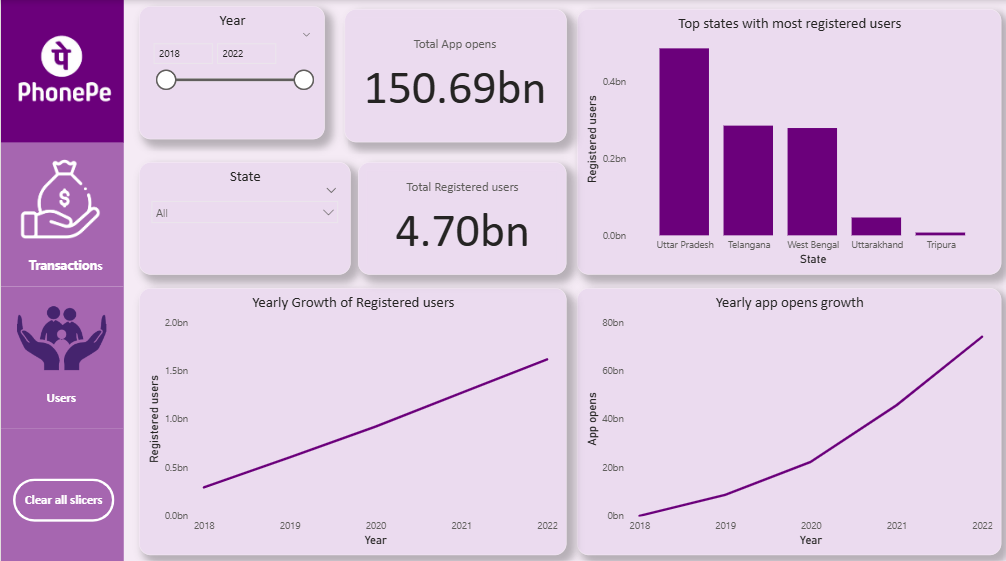

Layout of this report page (visuals, bound fields, positions):
{"tool":"powerbi","page":{"name":"Users","canvas":[1280,720],"ordinal":1},"visuals":[{"type":"shape","box":[0,0,155,180],"z":0,"group":"g1"},{"type":"slicer","title":"Year","fields":{"Values":["map_trans.Year"]},"box":[173.9,7.6,234.3,168.2],"z":0},{"type":"shape","box":[0,179.5,155,181.4],"z":1000,"group":"g1"},{"type":"slicer","title":"State","fields":{"Values":["map_trans.State"]},"box":[173.9,204.1,266.5,141.7],"z":1000},{"type":"group","id":"g1","title":"Group 1","box":[0,0,155,720],"z":2000},{"type":"shape","box":[0,360.9,155,179.5],"z":2000,"group":"g1"},{"type":"image","box":[11.3,24.6,136.1,130.4],"z":3000},{"type":"textbox","box":[15.1,317.5,132.3,32.1],"z":4000},{"type":"actionButton","box":[14.7,603,127.7,54.4],"z":5000},{"type":"textbox","box":[14.7,485.8,121.4,44],"z":6000},{"type":"columnChart","title":" Top  states with most registered users","fields":{"Category":["map_user.State"],"Y":["Sum(map_user.Registered_users)"]},"box":[725.7,11.3,534.8,334.5],"z":7000},{"type":"lineChart","title":"Yearly app opens growth","fields":{"Y":["Sum(map_user.App_opens)"],"Category":["map_user.Year"]},"box":[725.7,362.8,534.8,336.4],"z":8000},{"type":"shape","box":[0,540.5,155,179.5],"z":8001,"group":"g1"},{"type":"lineChart","title":"Yearly Growth of Registered users","fields":{"Category":["map_user.Year"],"Y":["Sum(map_user.Registered_users)"]},"box":[173.9,362.8,538.6,336.4],"z":9000},{"type":"cardVisual","fields":{"Data":["Sum(map_user.Registered_users)"]},"box":[449.8,204.1,262.7,141.7],"z":10000},{"type":"image","box":[15.1,189,122.8,120.9],"z":10002,"group":"g1"},{"type":"cardVisual","fields":{"Data":["Sum(map_user.App_opens)"]},"box":[432.8,11.3,279.7,168.2],"z":11000},{"type":"image","box":[12.6,362.2,125.6,125.6],"z":12001,"group":"g1"}]}

Visuals, with their boxes in screenshot pixels (x1, y1, x2, y2), scaled from the page's 1280x720 canvas onto the 1006x561 screenshot:
shape: 0 0 122 140
"Year" slicer: 137 6 321 137
shape: 0 140 122 281
"State" slicer: 137 159 346 269
"Group 1" group: 0 0 122 560
shape: 0 281 122 421
image: 9 19 116 121
textbox: 12 247 116 272
actionButton: 12 470 112 512
textbox: 12 379 107 413
" Top  states with most registered users" columnChart: 570 9 991 269
"Yearly app opens growth" lineChart: 570 283 991 545
shape: 0 421 122 560
"Yearly Growth of Registered users" lineChart: 137 283 560 545
cardVisual - Sum(map_user.Registered_users): 354 159 560 269
image: 12 147 108 241
cardVisual - Sum(map_user.App_opens): 340 9 560 140
image: 10 282 109 380
